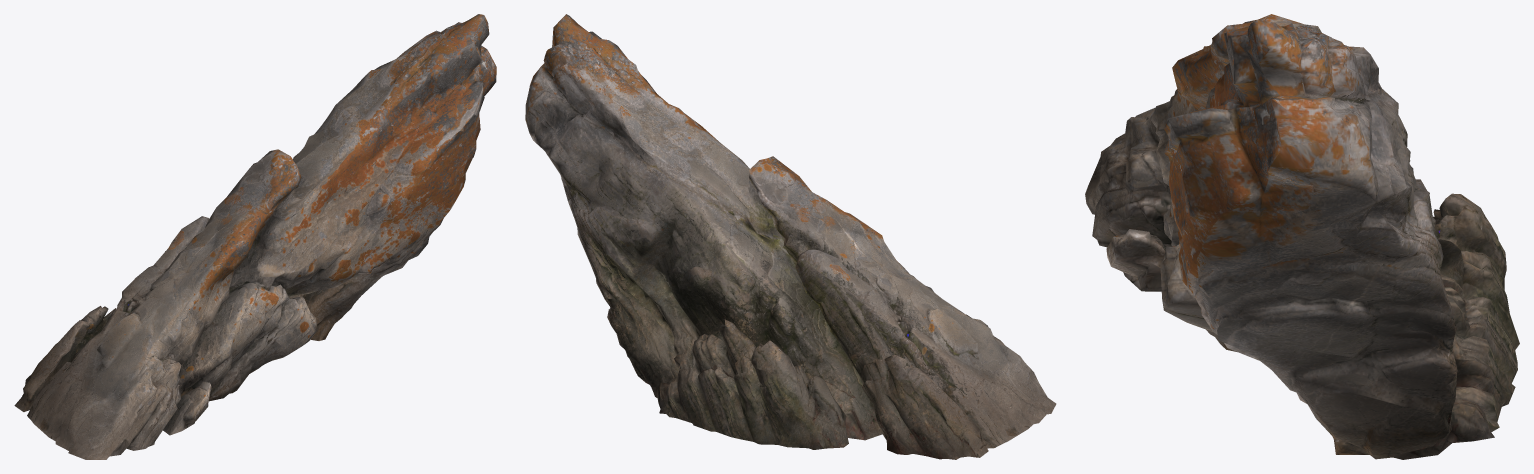
Rendered from SM_xk4oeif_tier_2.gltf.
3 views of the same model, side by side, from view 1: azimuth 30°, elevation 25°; view 2: azimuth 150°, elevation 25°; view 3: azimuth 270°, elevation 25° (orthographic). The views are drawn at different scales.
Parts seen in each view (by area): view 1: SM_xk4oeif; view 2: SM_xk4oeif; view 3: SM_xk4oeif.
Boxes of the visible parts, <box> form: SM_xk4oeif: <box>14,14,496,459</box>; SM_xk4oeif: <box>525,14,1056,459</box>; SM_xk4oeif: <box>1085,14,1519,459</box>.
Bounding box in the file's own units: 2.8 × 1.76 × 1.25.
Materials: 1 (1 with a texture image).
